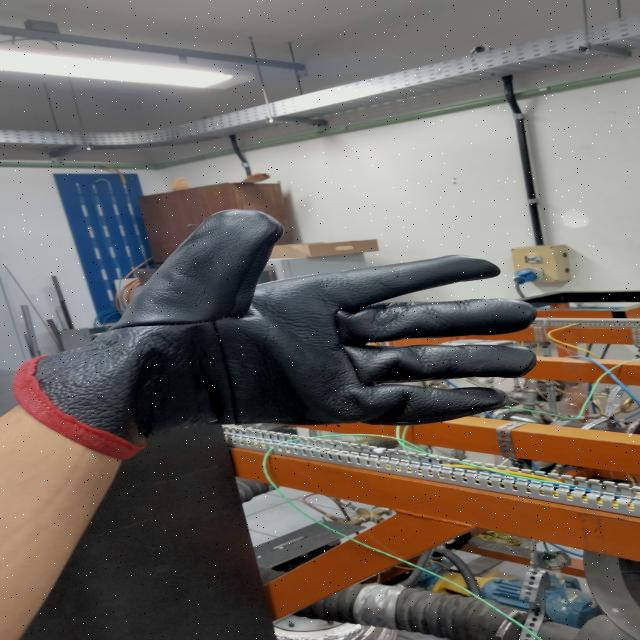Gloves: (31, 207, 509, 452)
